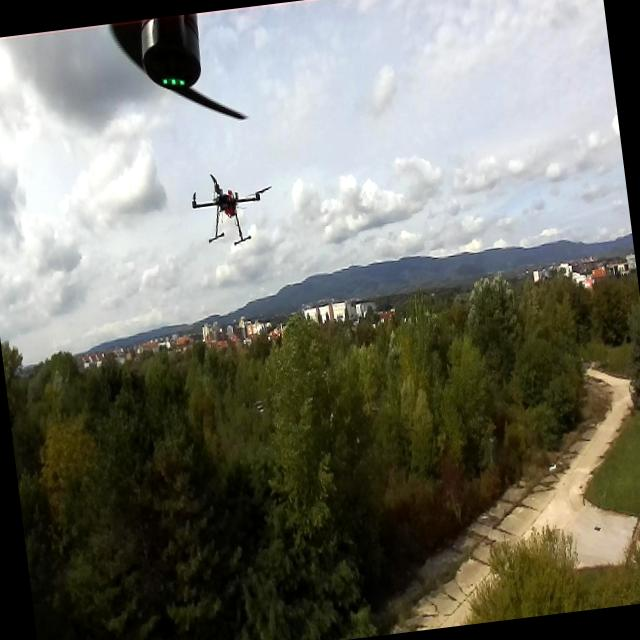drone: (184, 163, 273, 250)
